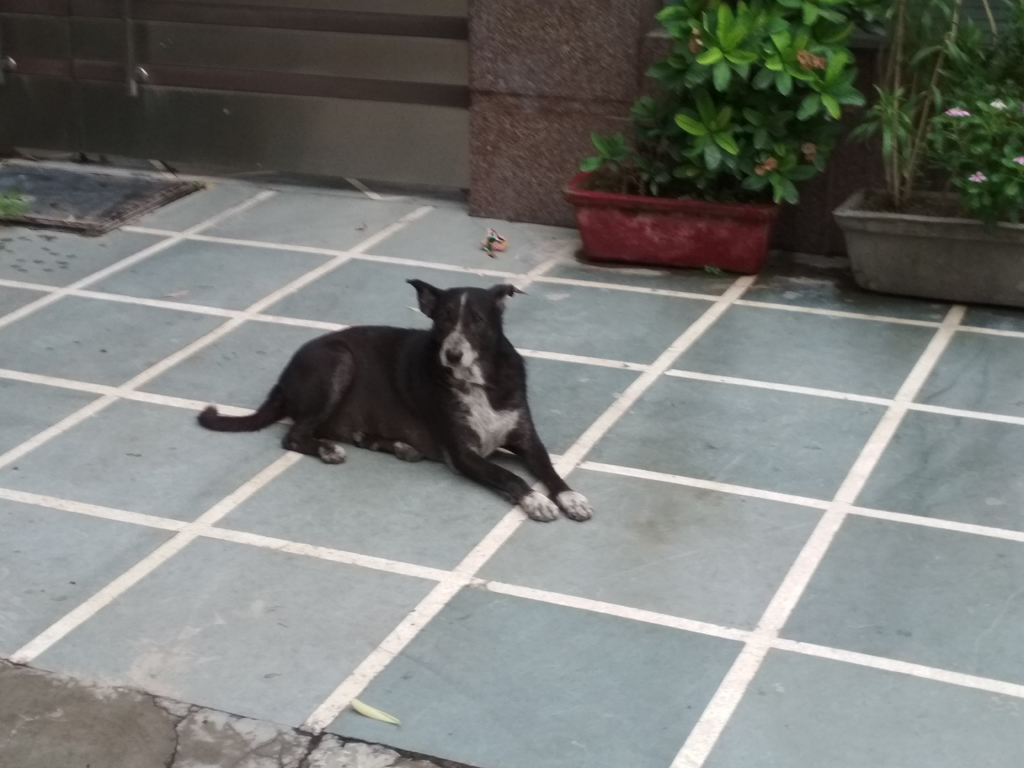dog: (198, 279, 594, 524)
